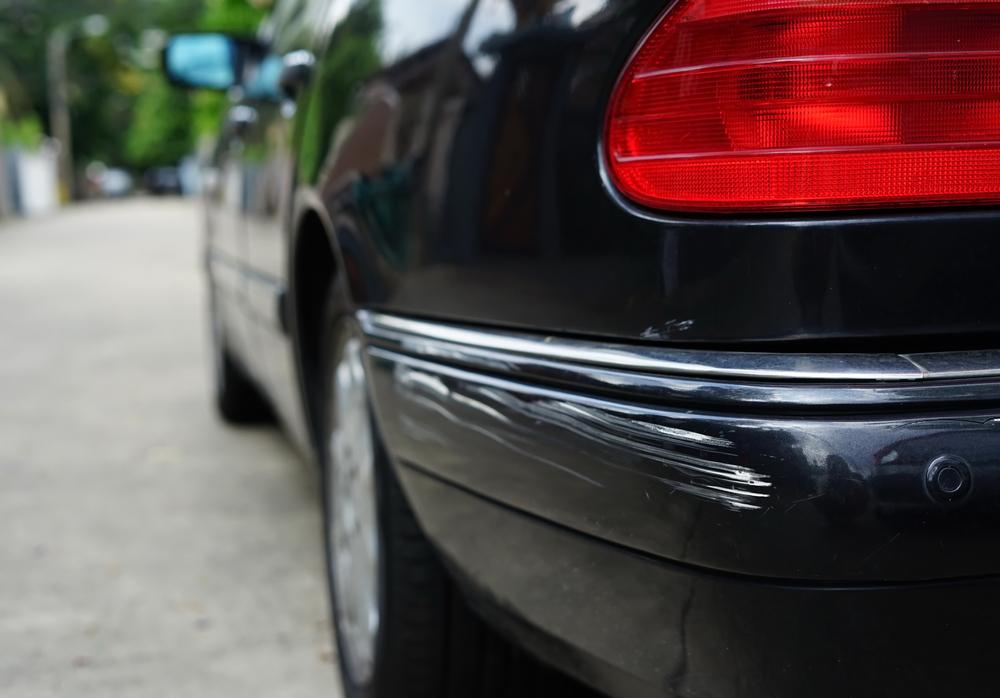crack: (893, 416, 1000, 430)
scratch: (396, 355, 783, 514)
